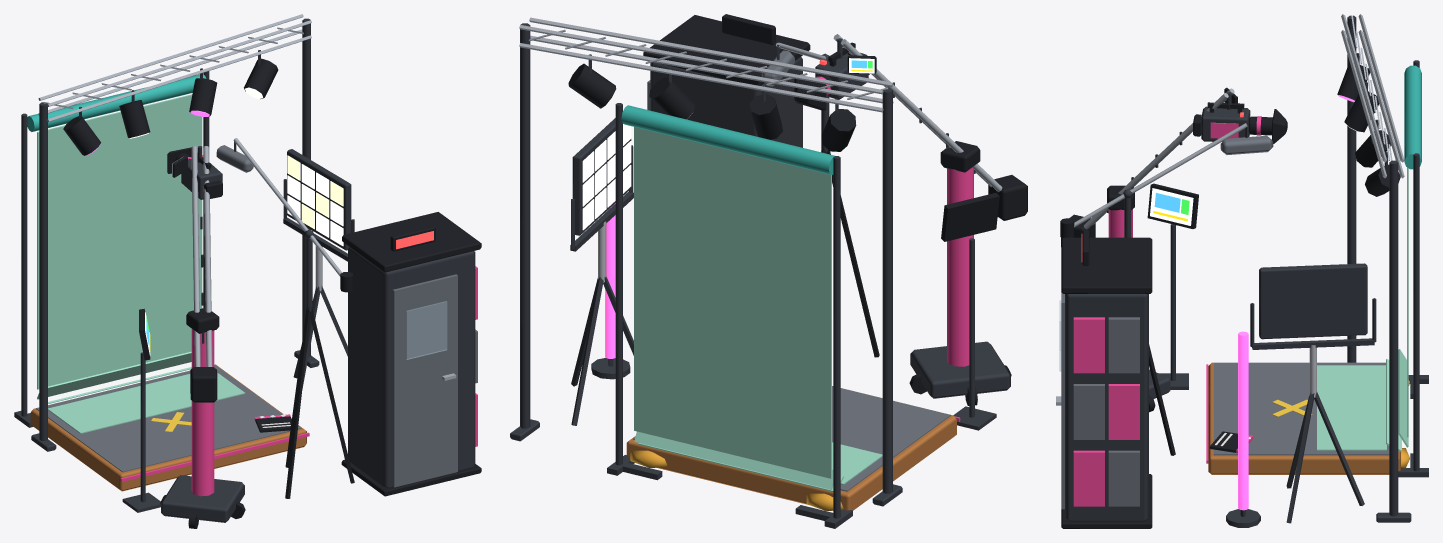
Rendered from station_buffer_3.glb.
3 views of the same model, side by side, from view 1: azimuth 30°, elevation 25°; view 2: azimuth 150°, elevation 25°; view 3: azimuth 270°, elevation 25° (orthographic). The views are drawn at different scales.
Parts seen in each view (by area): view 1: station_buffer_3; view 2: station_buffer_3; view 3: station_buffer_3.
Part boxes in pixels (x1=…): station_buffer_3: x1=14, y1=14, x2=481, y2=528; station_buffer_3: x1=510, y1=14, x2=1027, y2=528; station_buffer_3: x1=1056, y1=14, x2=1428, y2=528.
Size of the model in its own units: 2.12 by 2.28 by 2.13.
